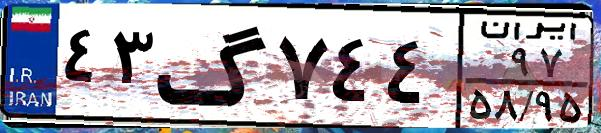3: (110, 28, 156, 98)
4: (385, 28, 445, 110), (330, 28, 385, 110), (57, 26, 110, 100)
5: (560, 70, 590, 125), (470, 70, 495, 125)
7: (270, 28, 330, 110), (537, 27, 568, 80)
8: (495, 70, 520, 125)
9: (508, 27, 537, 80), (535, 70, 560, 125)
گ: (156, 12, 270, 120)
